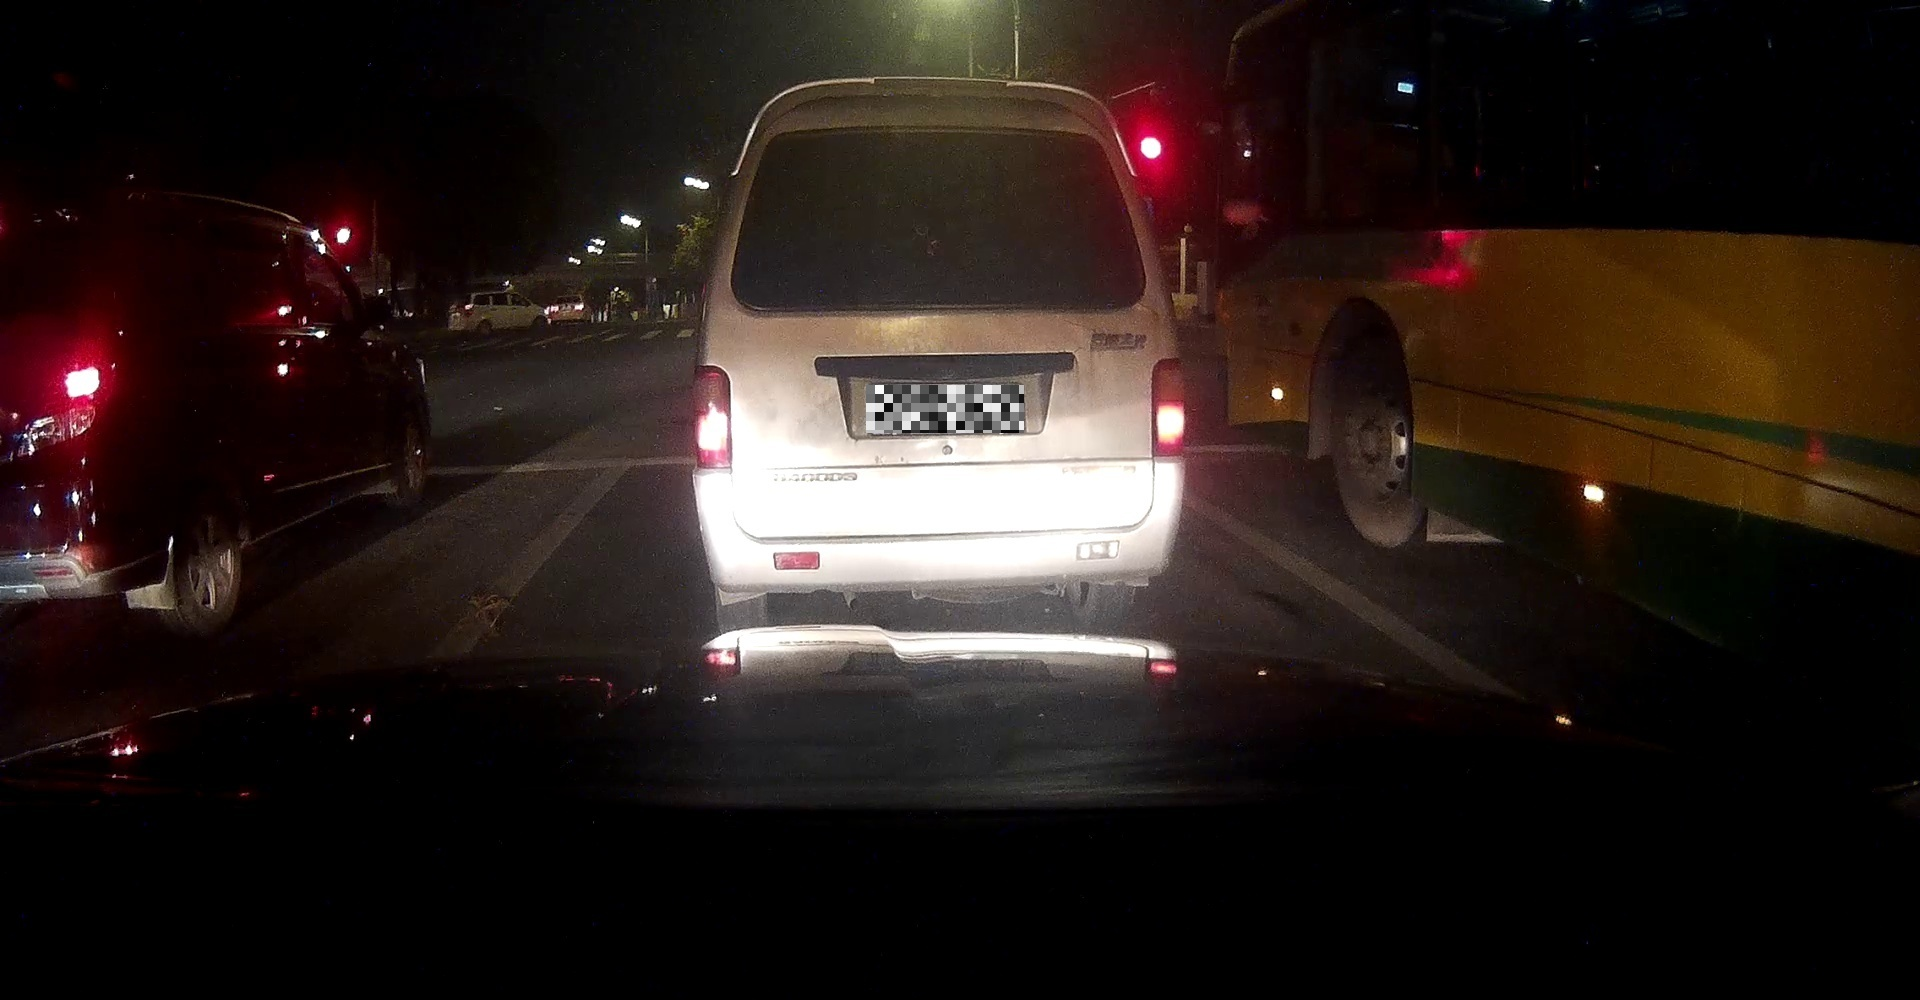L_light: (690, 364, 731, 467)
R_light: (1150, 358, 1182, 456)
T_light: (899, 135, 956, 146)
night-no: (691, 77, 1183, 635)
plate_1: (866, 385, 1023, 433)
